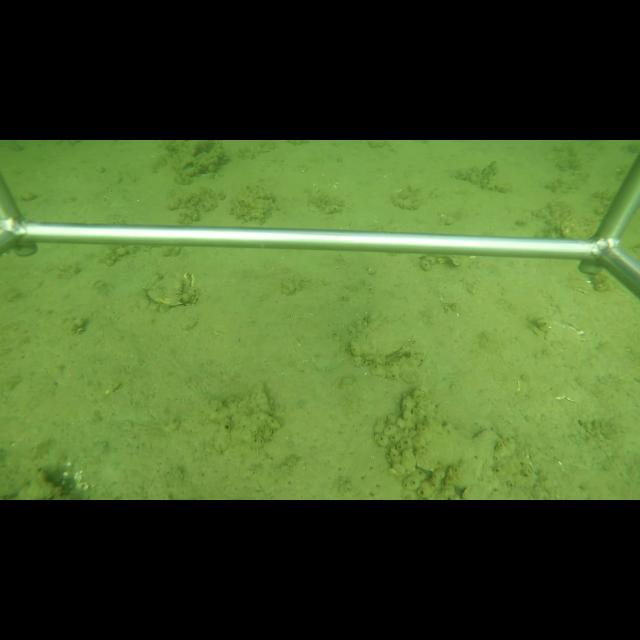Oyster-Closed: (347, 318, 413, 365), (145, 277, 184, 309)
